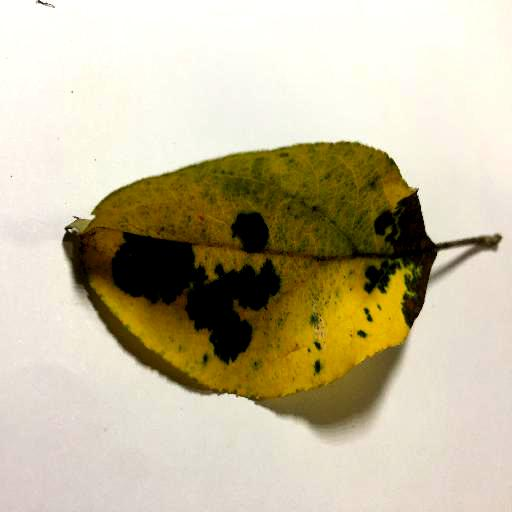Brown_Spot: (108, 237, 191, 294), (179, 289, 248, 357), (223, 269, 292, 319), (375, 269, 423, 313), (389, 215, 427, 256), (227, 217, 262, 248)
